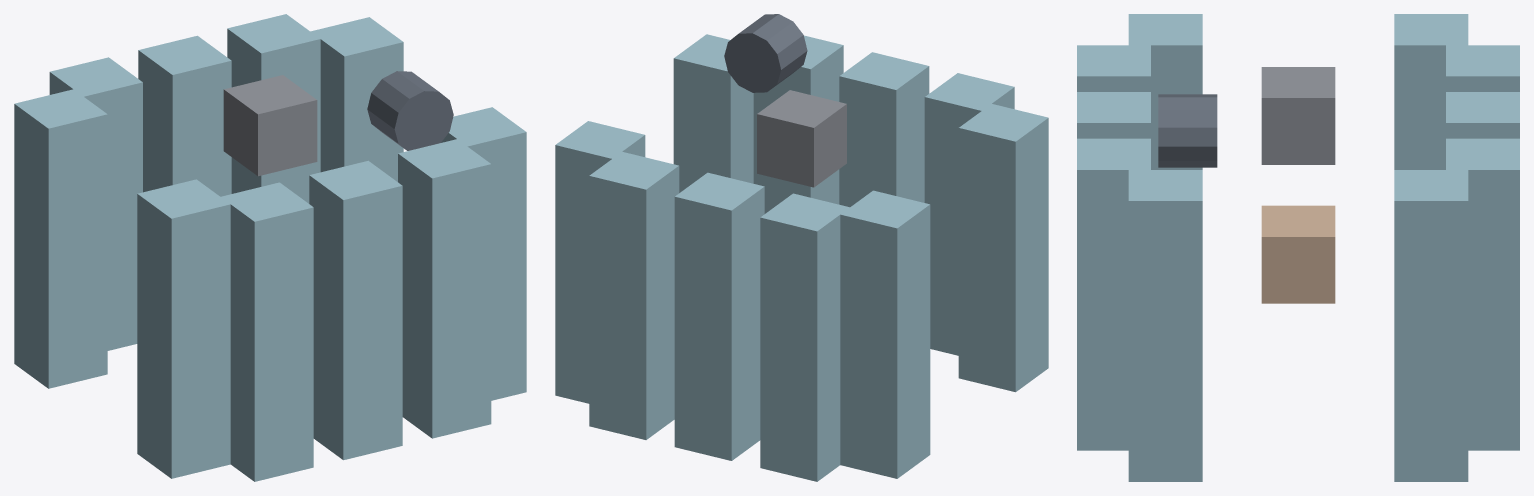
File: bld_apartment_orange.glb
3 renders of one model, left to right at view 1: azimuth 30°, elevation 25°; view 2: azimuth 150°, elevation 25°; view 3: azimuth 270°, elevation 25°, orthographic. The views are drawn at different scales.
Visible parts, largest first — view 1: world; view 2: world; view 3: world.
Boxes of the visible parts, <box> form: world: <box>14,14,526,481</box>; world: <box>555,14,1048,481</box>; world: <box>1077,14,1519,481</box>.
Size of the model in its own units: 6 by 5.05 by 6.
